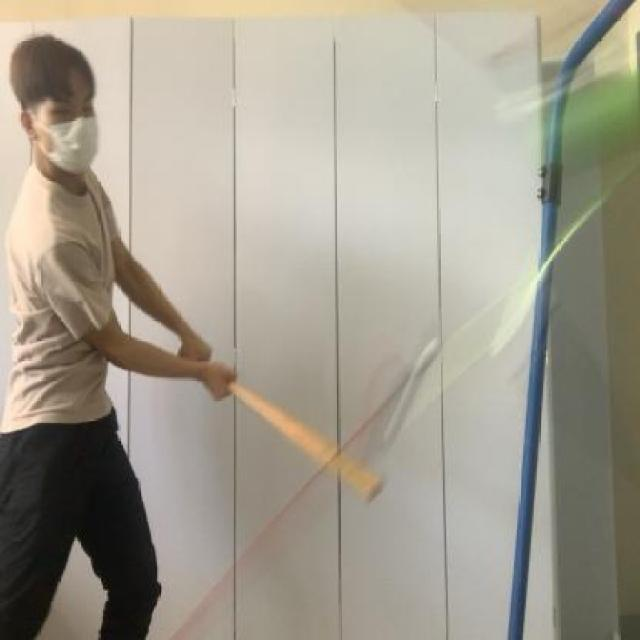baseball: (538, 62, 640, 169)
